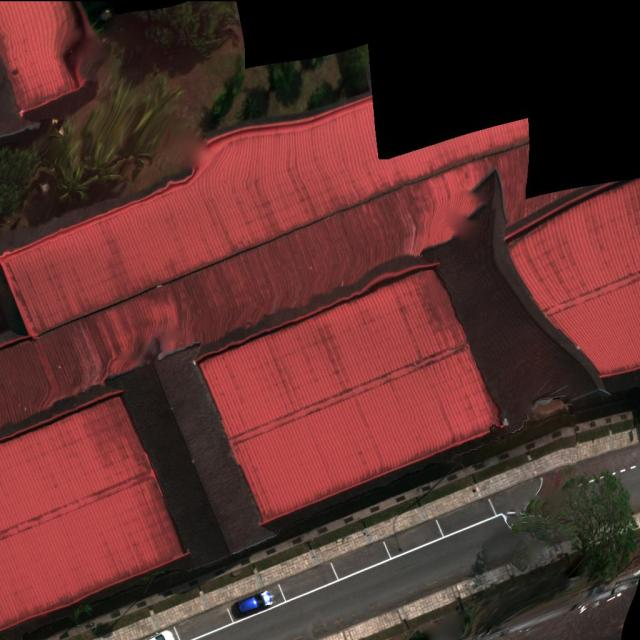Tree: (54, 75, 185, 202), (511, 469, 638, 588), (132, 0, 237, 56), (0, 139, 41, 219), (206, 54, 246, 132), (332, 44, 369, 98), (263, 59, 298, 100), (298, 54, 330, 80), (238, 95, 262, 121), (304, 86, 327, 112)
